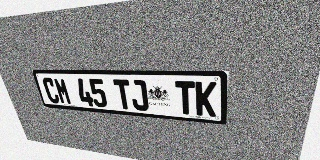4: (75, 78, 94, 107)
5: (88, 79, 108, 108)
C: (41, 77, 61, 104)
J: (129, 80, 149, 111)
K: (195, 81, 217, 117)
M: (53, 78, 72, 105)
T: (175, 81, 195, 115), (113, 79, 133, 110)
